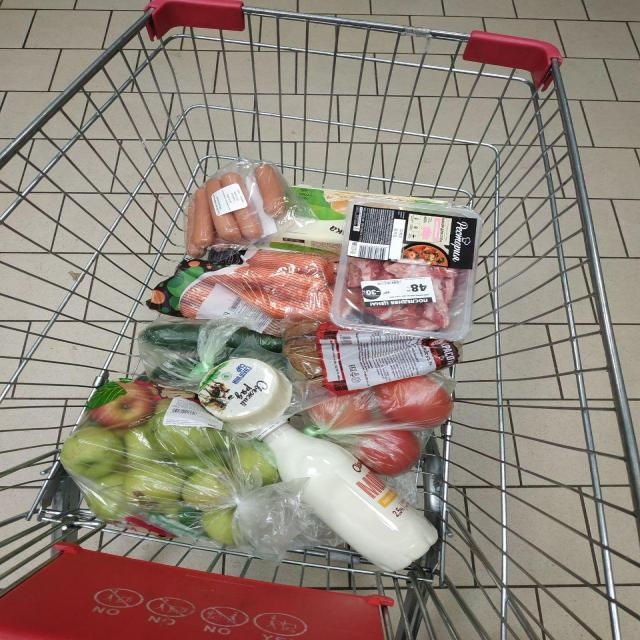apple: (136, 226, 400, 640), (117, 257, 346, 640), (100, 226, 306, 640), (126, 251, 332, 640), (84, 228, 266, 640), (82, 219, 247, 631), (69, 251, 238, 640), (92, 234, 250, 640), (74, 226, 222, 640), (78, 201, 235, 590), (65, 224, 175, 640), (66, 236, 179, 640), (67, 248, 175, 640)
carrot: (154, 152, 438, 452), (174, 149, 458, 434), (132, 133, 373, 399), (135, 120, 380, 380), (89, 148, 271, 461), (103, 139, 295, 424)
cheese: (149, 197, 434, 572)
cucumber: (127, 162, 362, 493), (99, 183, 298, 543), (97, 160, 248, 485)
egg: (159, 94, 586, 298)
milk: (221, 272, 640, 640)
tomato: (211, 219, 619, 640), (220, 189, 640, 564), (178, 198, 517, 594)
